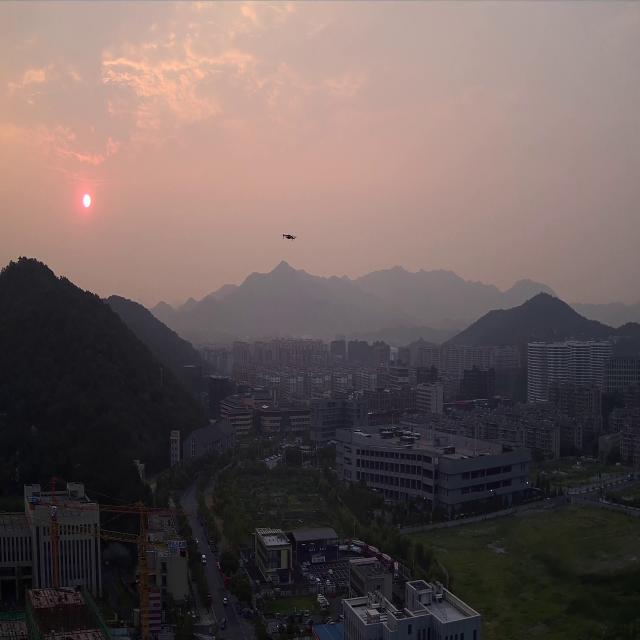UAV: (282, 233, 298, 240)
